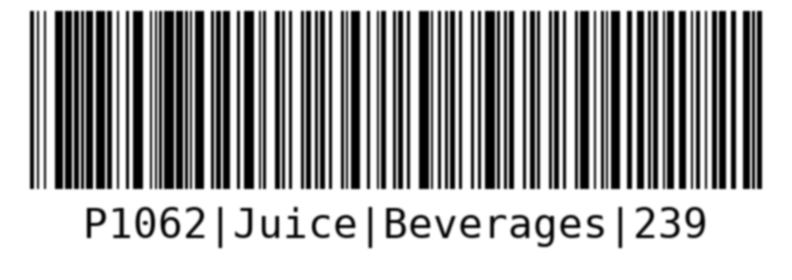milk: (24, 8, 769, 260)
